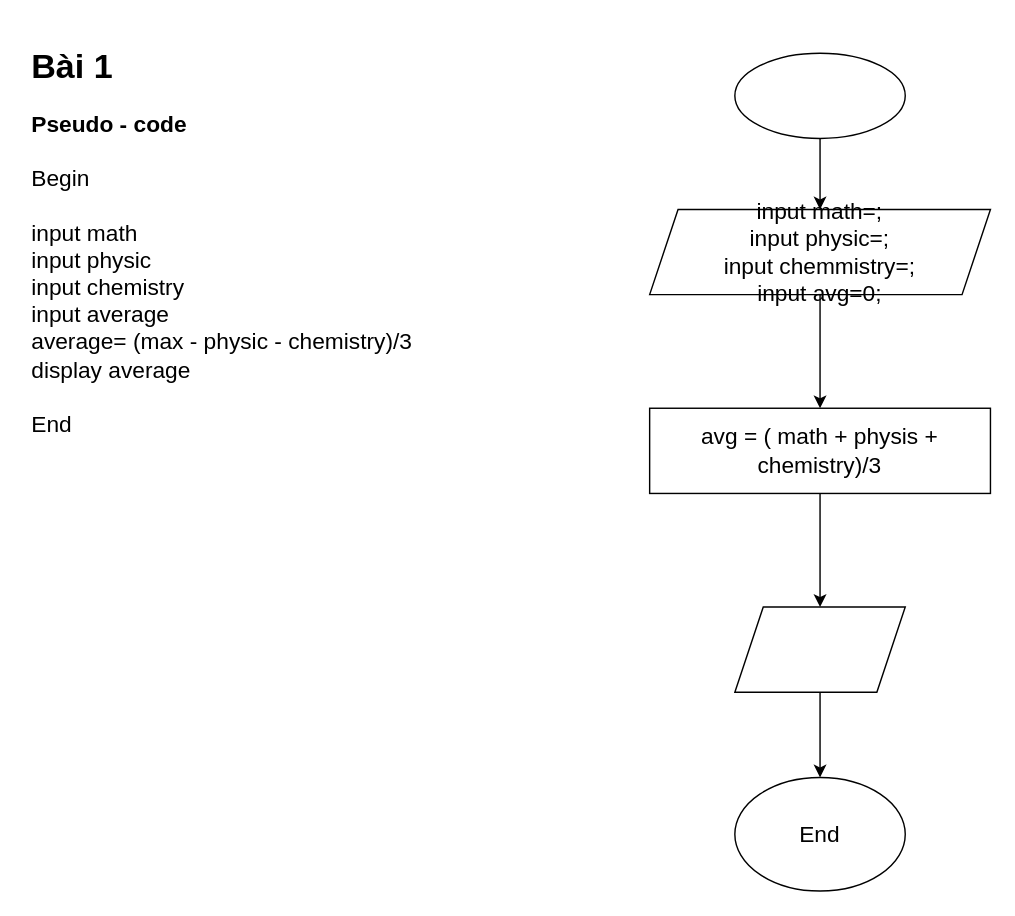
Some shapes in this 1015 by 916 pixel diagram are drawn without their labels. The box of each missing label's shape, as (x1, y1, x2, y2) in pixels:
Begin: (733, 52, 905, 138)
Display avg: (733, 606, 905, 692)
